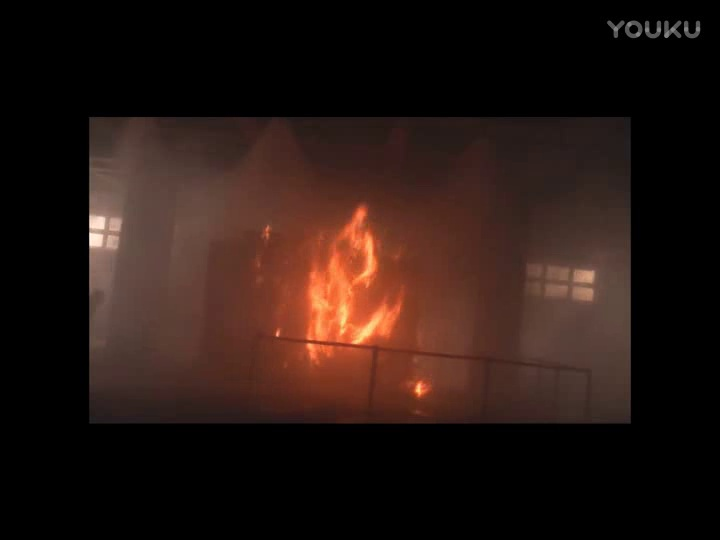fire: (296, 200, 411, 361), (410, 377, 431, 401)
